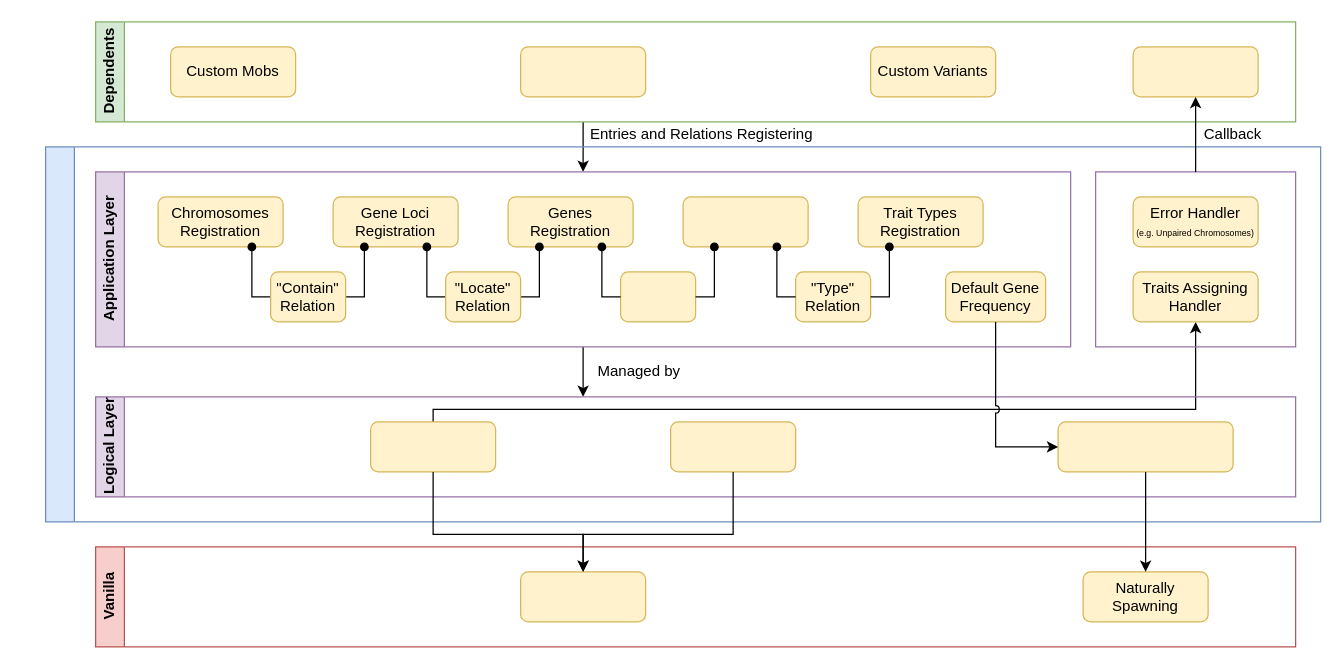
Some shapes in this 1343 by 669 pixel diagram are drawn without their labels. The shapes that lost their labels are listed below. From the top down, each one's box as (x1, y1, x2, y2) in pixels, then its label:
(519, 46, 646, 97): Custom Traits
(1132, 46, 1258, 97): Event Subscriber
(682, 196, 808, 247): Traits Registration
(619, 271, 696, 322): "Determine" Relation
(44, 146, 1321, 522): ChromosomeLib
(369, 421, 496, 472): Gene Recombination
(669, 421, 796, 472): Gene Mutation
(1057, 421, 1233, 472): Random Gene Selector ( Common/ Biome Specified)
(519, 571, 646, 622): Animal Breeding
